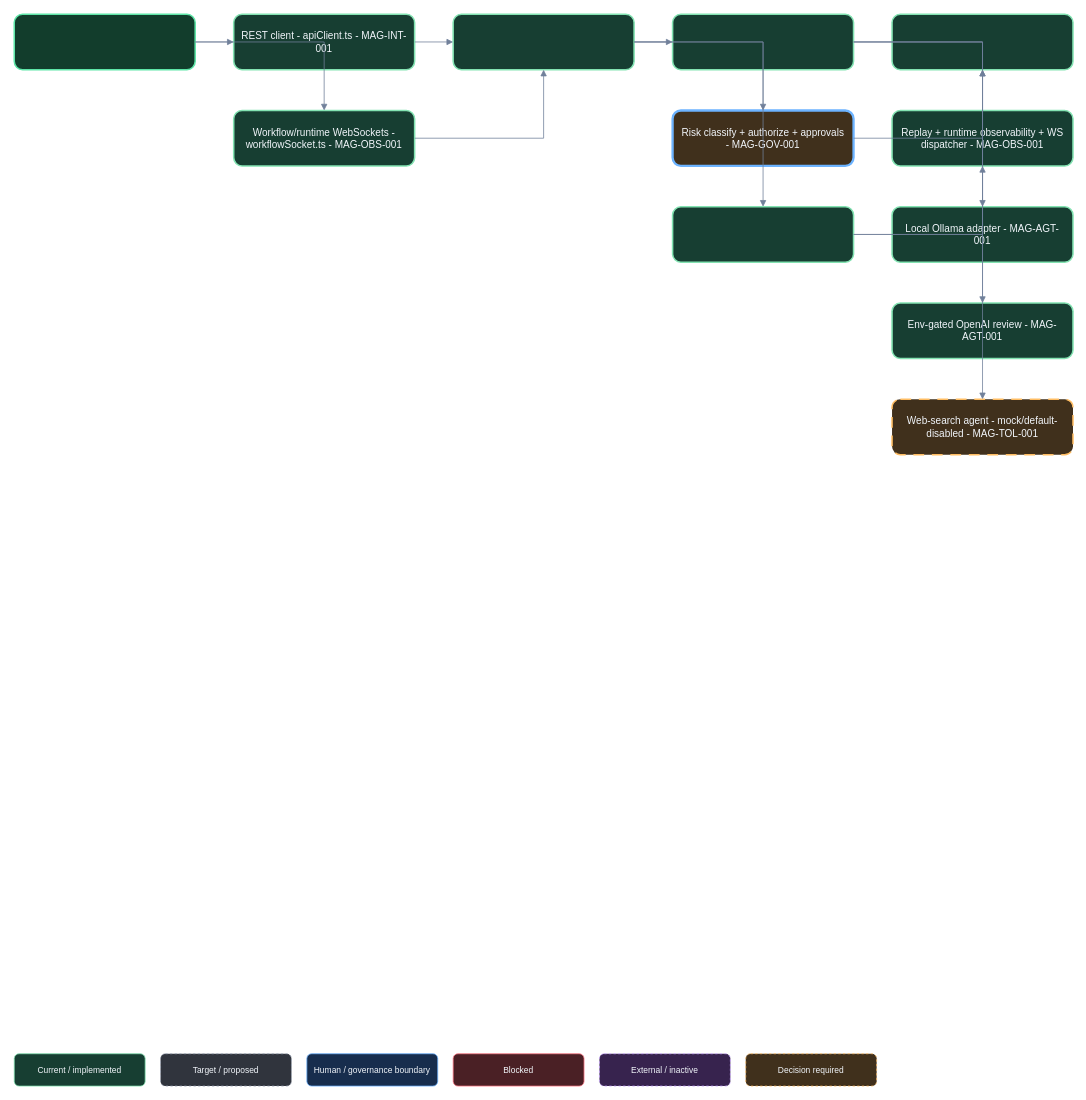
This 1086x1100 diagram has some shape labels left out. Here are the shapes that lost their labels. From the top down, the centre of each, then its label:
At (104,41): "React ten-tab shell - App.tsx - MAG-EXP-001".
At (543,41): "FastAPI app - main.py - MAG-INT-001".
At (762,41): "CSF to BRS routing - routes_local_model.py + intent_router.py - MAG-COG-001".
At (982,41): "SQLite SQLModel - models.py repositories.py - MAG-MEM-001".
At (762,234): "Event bus to workflow to orchestration - MAG-ORC-001".
